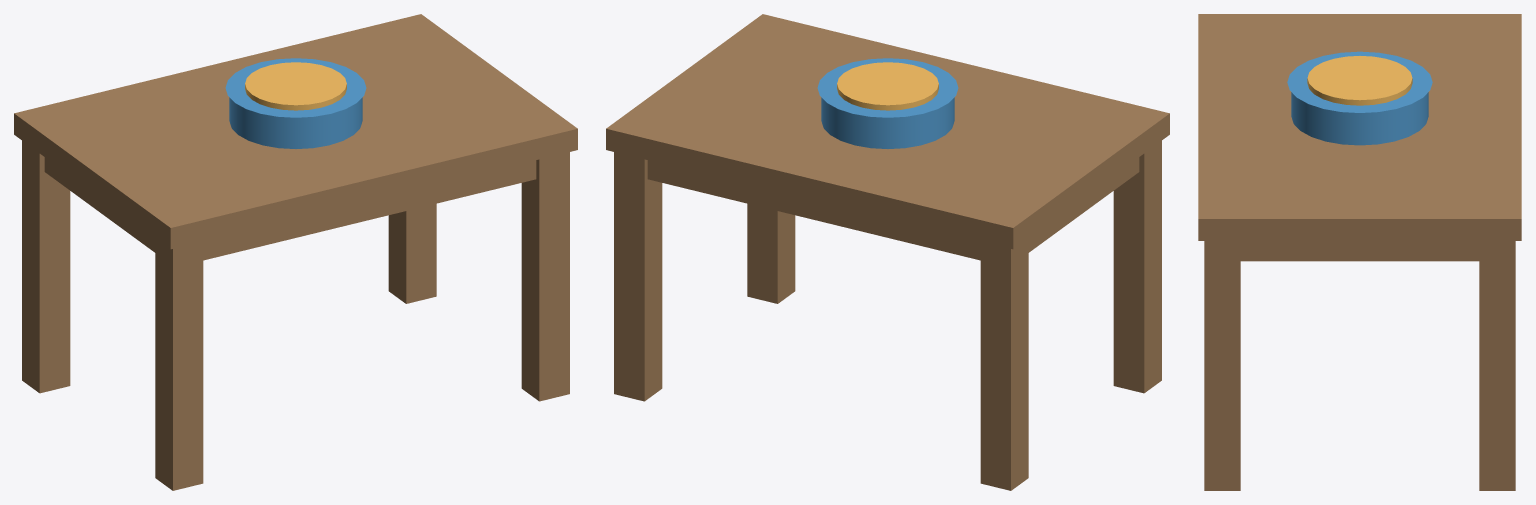
File: citizens-demo-food-table.glb
The picture shows the model from 3 angles, left to right: view 1: azimuth 30°, elevation 25°; view 2: azimuth 150°, elevation 25°; view 3: azimuth 270°, elevation 25°; orthographic projection. The views are drawn at different scales.
Parts seen in each view (by area): view 1: Table top, Table leg (×4), Long apron, Blue bowl, Golden meal, Bowl lip, Short apron; view 2: Table top, Table leg (×4), Long apron, Blue bowl, Golden meal, Bowl lip, Short apron; view 3: Table top, Table leg (×2), Short apron, Blue bowl, Golden meal, Bowl lip.
Boxes of the visible parts, x1=… form: Table top: x1=14, y1=14, x2=577, y2=249; Table leg (×4): x1=22, y1=141, x2=569, y2=490; Long apron: x1=203, y1=160, x2=536, y2=260; Blue bowl: x1=229, y1=81, x2=362, y2=148; Golden meal: x1=245, y1=62, x2=346, y2=110; Bowl lip: x1=225, y1=58, x2=366, y2=117; Short apron: x1=44, y1=157, x2=155, y2=252; Table top: x1=606, y1=14, x2=1169, y2=249; Table leg (×4): x1=614, y1=141, x2=1161, y2=490; Long apron: x1=647, y1=160, x2=980, y2=260; Blue bowl: x1=821, y1=81, x2=954, y2=148; Golden meal: x1=837, y1=62, x2=938, y2=110; Bowl lip: x1=817, y1=58, x2=958, y2=117; Short apron: x1=1028, y1=157, x2=1139, y2=252; Table top: x1=1198, y1=14, x2=1521, y2=240; Table leg (×2): x1=1204, y1=241, x2=1515, y2=490; Short apron: x1=1240, y1=241, x2=1479, y2=261; Blue bowl: x1=1291, y1=74, x2=1428, y2=145; Golden meal: x1=1307, y1=56, x2=1412, y2=105; Bowl lip: x1=1287, y1=51, x2=1432, y2=112.
Size of the model in its own units: 1.2 by 0.855 by 0.8.
